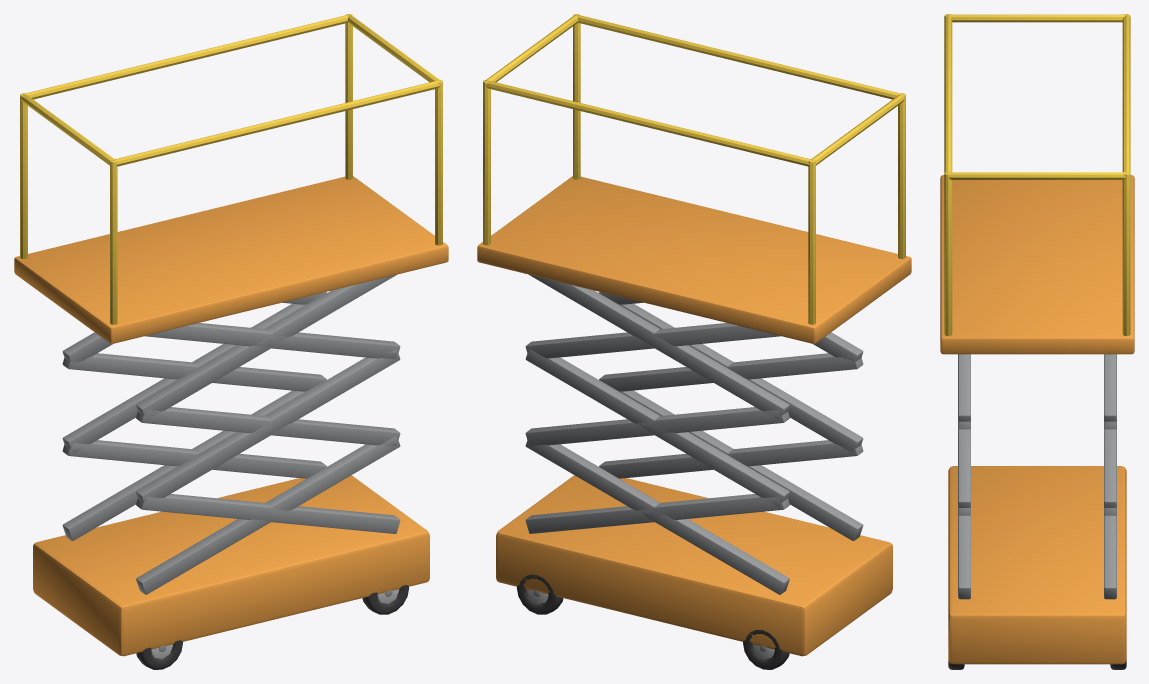
File: EQP-ELV-005_lod1.glb
3 views of the same model, side by side, from view 1: azimuth 30°, elevation 25°; view 2: azimuth 150°, elevation 25°; view 3: azimuth 270°, elevation 25° (orthographic).
Parts seen in each view (by area): view 1: EQP-ELV-005_base, EQP-ELV-005_plataforma, EQP-ELV-005_tesoura1_a-0.45, EQP-ELV-005_tesoura0_a-0.45, EQP-ELV-005_tesoura2_a-0.45, EQP-ELV-005_tesoura0_b-0.45, EQP-ELV-005_tesoura1_b-0.45, EQP-ELV-005_tesoura2_b-0.45, EQP-ELV-005_tesoura0_b0.45, EQP-ELV-005_tesoura1_b0.45, EQP-ELV-005_tesoura0_a0.45, EQP-ELV-005_gc_trilho-1 (+11 smaller); view 2: EQP-ELV-005_plataforma, EQP-ELV-005_base, EQP-ELV-005_tesoura0_a0.45, EQP-ELV-005_tesoura1_a0.45, EQP-ELV-005_tesoura2_a0.45, EQP-ELV-005_tesoura1_b0.45, EQP-ELV-005_tesoura0_b0.45, EQP-ELV-005_tesoura1_b-0.45, EQP-ELV-005_tesoura0_b-0.45, EQP-ELV-005_tesoura2_b0.45, EQP-ELV-005_tesoura0_a-0.45, EQP-ELV-005_tesoura1_a-0.45 (+11 smaller); view 3: EQP-ELV-005_base, EQP-ELV-005_plataforma, EQP-ELV-005_gc_trilhox-1, EQP-ELV-005_gc_poste2, EQP-ELV-005_gc_poste3, EQP-ELV-005_gc_trilhox1, EQP-ELV-005_gc_trilho1, EQP-ELV-005_gc_trilho-1, EQP-ELV-005_tesoura0_b0.45, EQP-ELV-005_tesoura0_b-0.45, EQP-ELV-005_tesoura1_b0.45, EQP-ELV-005_tesoura1_b-0.45 (+2 smaller).
Boxes of the visible parts, x1=… form: EQP-ELV-005_base: x1=33, y1=475, x2=429, y2=656; EQP-ELV-005_plataforma: x1=14, y1=176, x2=448, y2=343; EQP-ELV-005_tesoura1_a-0.45: x1=136, y1=349, x2=400, y2=503; EQP-ELV-005_tesoura0_a-0.45: x1=136, y1=436, x2=400, y2=594; EQP-ELV-005_tesoura2_a-0.45: x1=136, y1=274, x2=396, y2=417; EQP-ELV-005_tesoura0_b-0.45: x1=136, y1=494, x2=400, y2=533; EQP-ELV-005_tesoura1_b-0.45: x1=136, y1=407, x2=400, y2=446; EQP-ELV-005_tesoura2_b-0.45: x1=145, y1=323, x2=400, y2=359; EQP-ELV-005_tesoura0_b0.45: x1=62, y1=440, x2=326, y2=478; EQP-ELV-005_tesoura1_b0.45: x1=62, y1=353, x2=326, y2=391; EQP-ELV-005_tesoura0_a0.45: x1=62, y1=382, x2=322, y2=540; EQP-ELV-005_gc_trilho-1: x1=113, y1=80, x2=440, y2=166; EQP-ELV-005_plataforma: x1=477, y1=176, x2=911, y2=343; EQP-ELV-005_base: x1=496, y1=475, x2=892, y2=656; EQP-ELV-005_tesoura0_a0.45: x1=525, y1=438, x2=789, y2=594; EQP-ELV-005_tesoura1_a0.45: x1=525, y1=349, x2=789, y2=506; EQP-ELV-005_tesoura2_a0.45: x1=528, y1=274, x2=789, y2=419; EQP-ELV-005_tesoura1_b0.45: x1=525, y1=407, x2=789, y2=446; EQP-ELV-005_tesoura0_b0.45: x1=525, y1=494, x2=789, y2=533; EQP-ELV-005_tesoura1_b-0.45: x1=599, y1=353, x2=863, y2=391; EQP-ELV-005_tesoura0_b-0.45: x1=599, y1=440, x2=863, y2=478; EQP-ELV-005_tesoura2_b0.45: x1=525, y1=323, x2=780, y2=358; EQP-ELV-005_tesoura0_a-0.45: x1=603, y1=382, x2=863, y2=540; EQP-ELV-005_tesoura1_a-0.45: x1=603, y1=295, x2=863, y2=452; EQP-ELV-005_base: x1=948, y1=466, x2=1126, y2=664; EQP-ELV-005_plataforma: x1=940, y1=175, x2=1134, y2=354; EQP-ELV-005_gc_trilhox-1: x1=949, y1=14, x2=1125, y2=22; EQP-ELV-005_gc_poste2: x1=944, y1=172, x2=952, y2=336; EQP-ELV-005_gc_poste3: x1=1122, y1=172, x2=1130, y2=336; EQP-ELV-005_gc_trilhox1: x1=948, y1=172, x2=1126, y2=179; EQP-ELV-005_gc_trilho1: x1=1122, y1=15, x2=1130, y2=172; EQP-ELV-005_gc_trilho-1: x1=944, y1=15, x2=952, y2=172; EQP-ELV-005_tesoura0_b0.45: x1=1104, y1=514, x2=1116, y2=599; EQP-ELV-005_tesoura0_b-0.45: x1=958, y1=514, x2=970, y2=599; EQP-ELV-005_tesoura1_b0.45: x1=1104, y1=428, x2=1116, y2=507; EQP-ELV-005_tesoura1_b-0.45: x1=958, y1=428, x2=970, y2=507.
Size of the model in its own units: 2.4 by 3.54 by 1.2.
